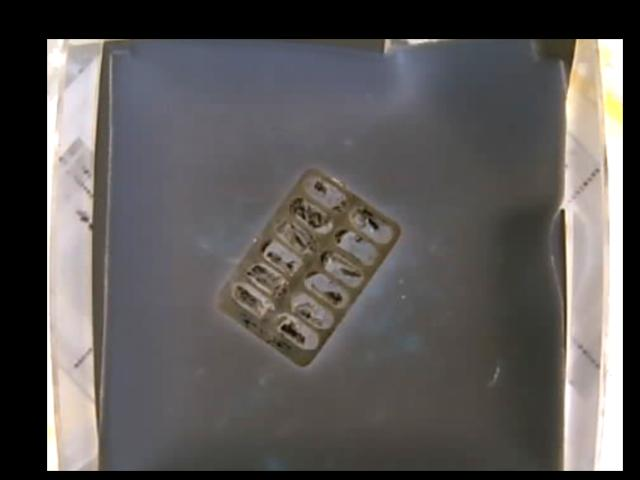Medicine: (221, 168, 401, 377)
